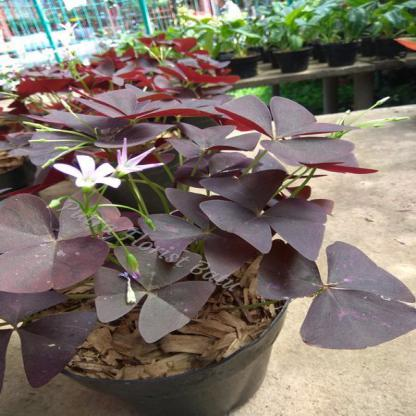Kupu-Kupu: (258, 236, 411, 357), (3, 183, 131, 290), (94, 235, 215, 341), (223, 87, 342, 185)
